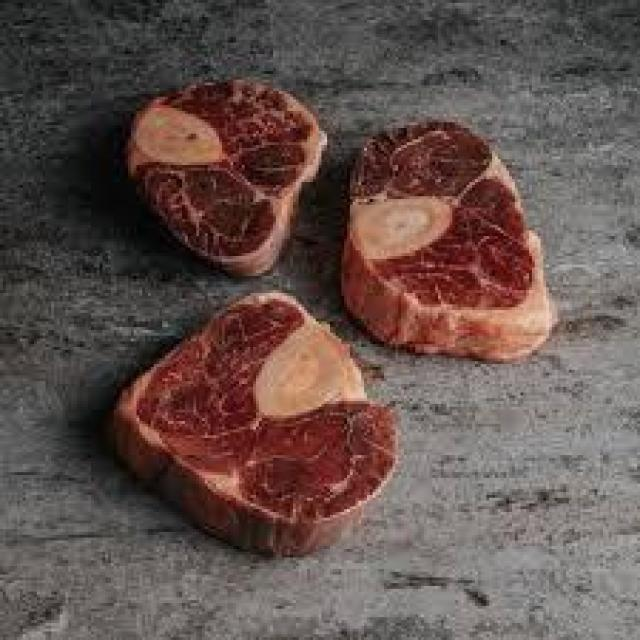Wet Waste: (113, 281, 425, 567)
